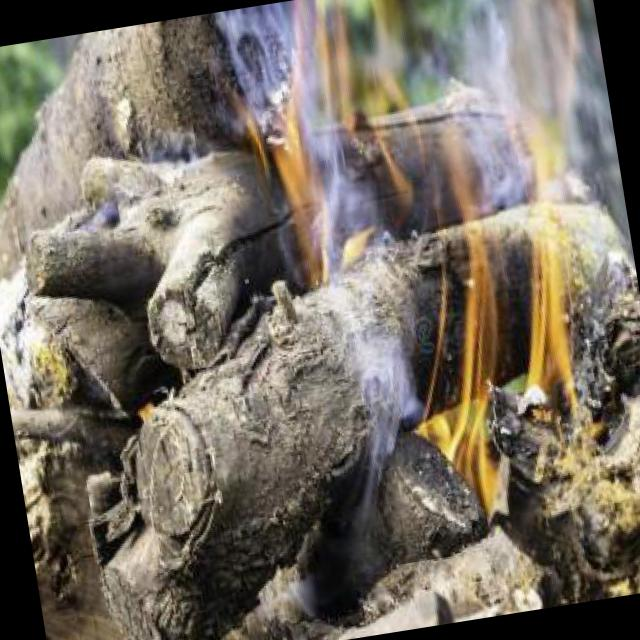fire: (396, 114, 636, 528)
